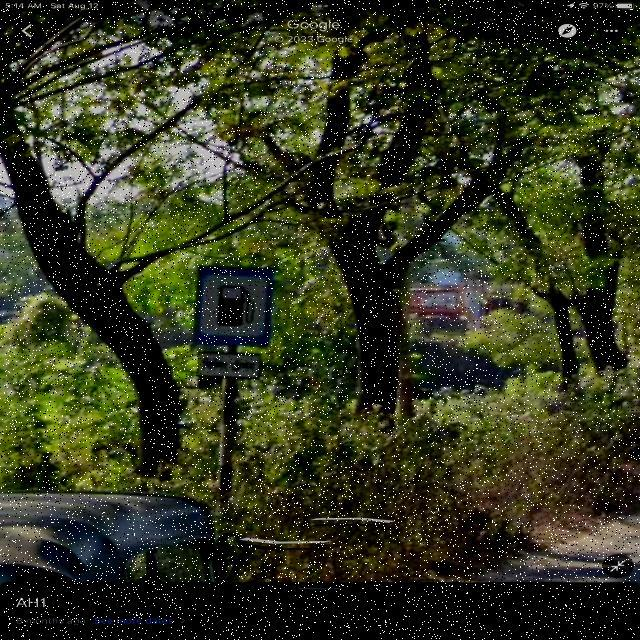Petrol-Station-in-front: (190, 245, 272, 388)
